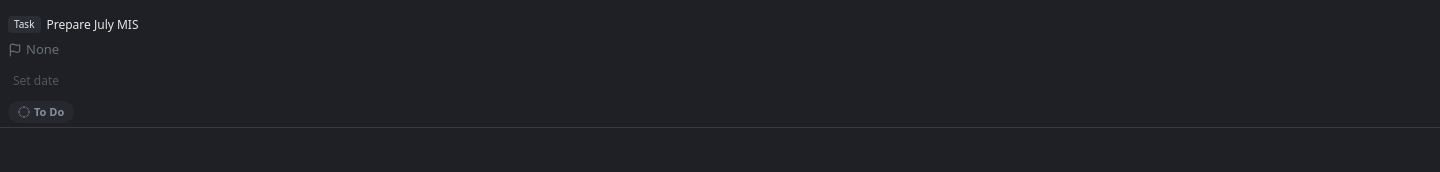
Test: ItemRow (dense table) › shows no date input (and so no "dd-mm-yyyy" text) until the Due cell is clicked
Click the button with aria-label "due date for" at (36, 80), box [8,69,1432,93]
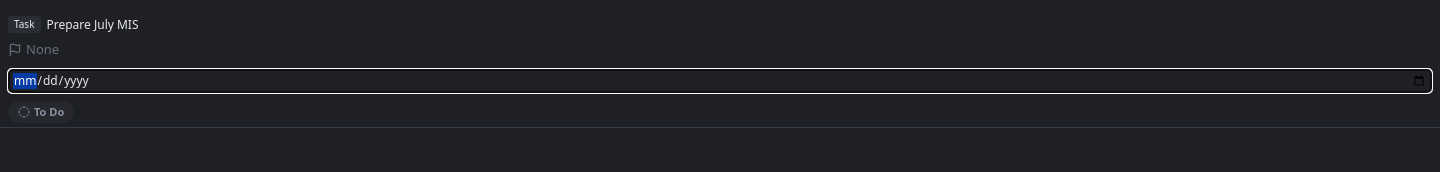
Expected: the date field named "Due date for Prepare July MIS" is shown, [8,69,1432,93]
